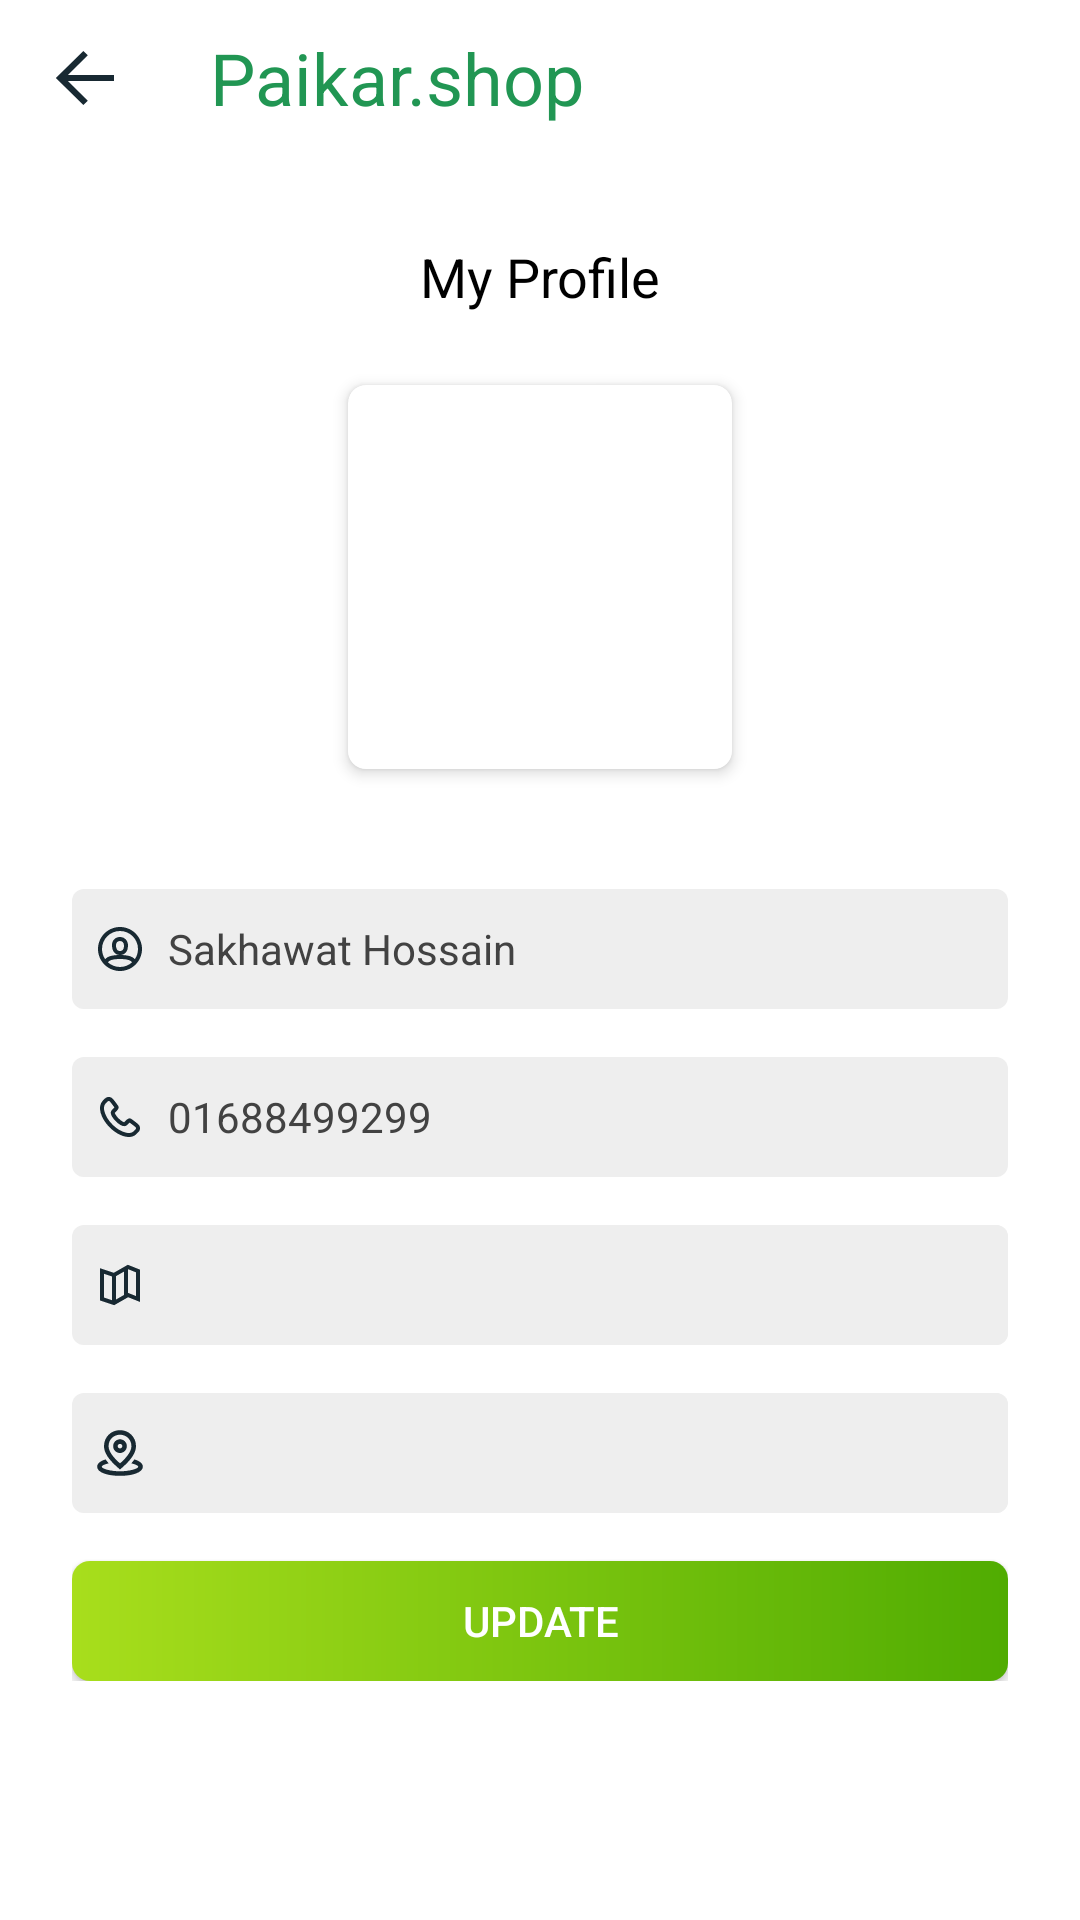

Icon bounding boxes for this 1080×1920 phone screenshot, format bbox(x1, y1, x2, y2):
arrow left: bbox(56, 51, 114, 105)
location: bbox(97, 1430, 143, 1476)
map: bbox(100, 1265, 140, 1305)
